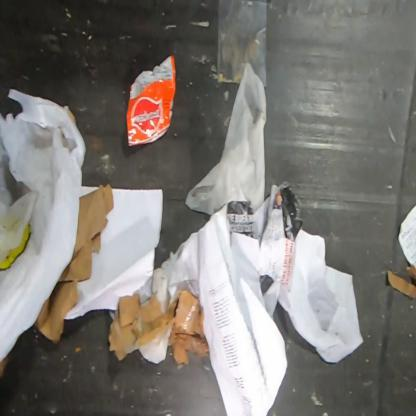cardboard: (34, 183, 115, 342), (108, 289, 209, 365)
rigid_plastic: (216, 0, 269, 87)
soft_plastic: (0, 88, 86, 364), (126, 56, 176, 146)
